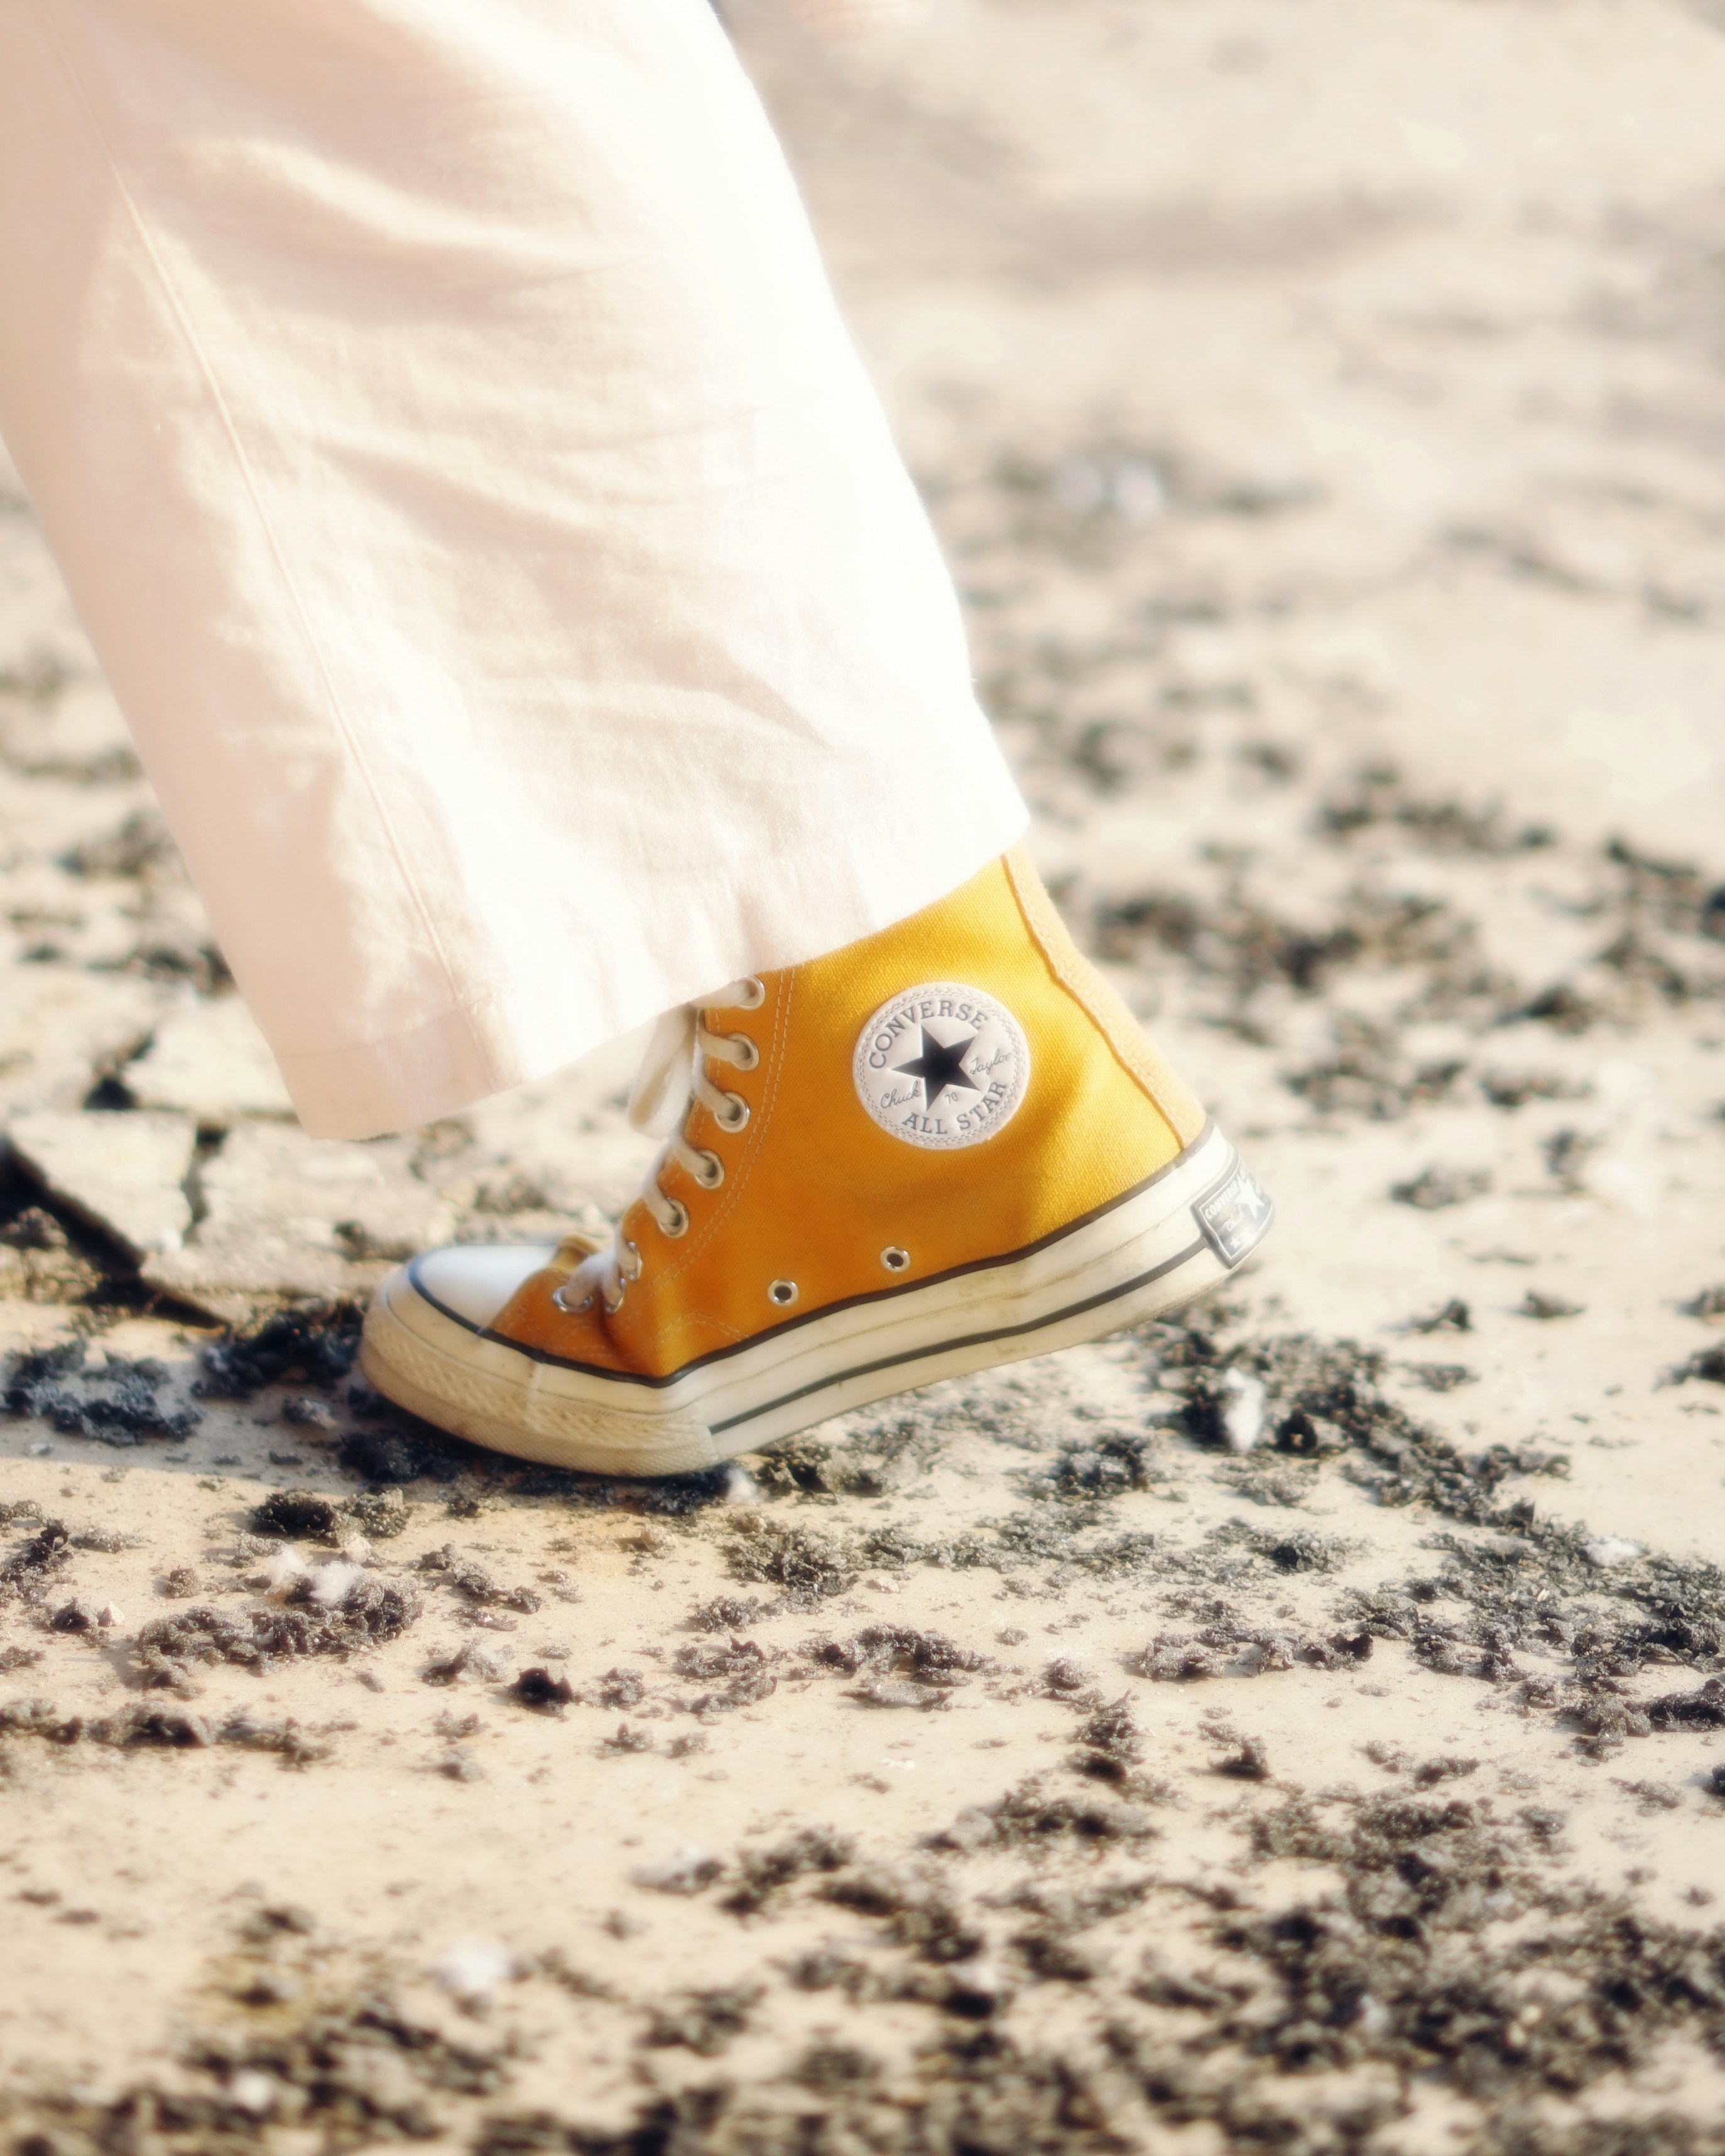Footwear: (282, 878, 1297, 1491)
